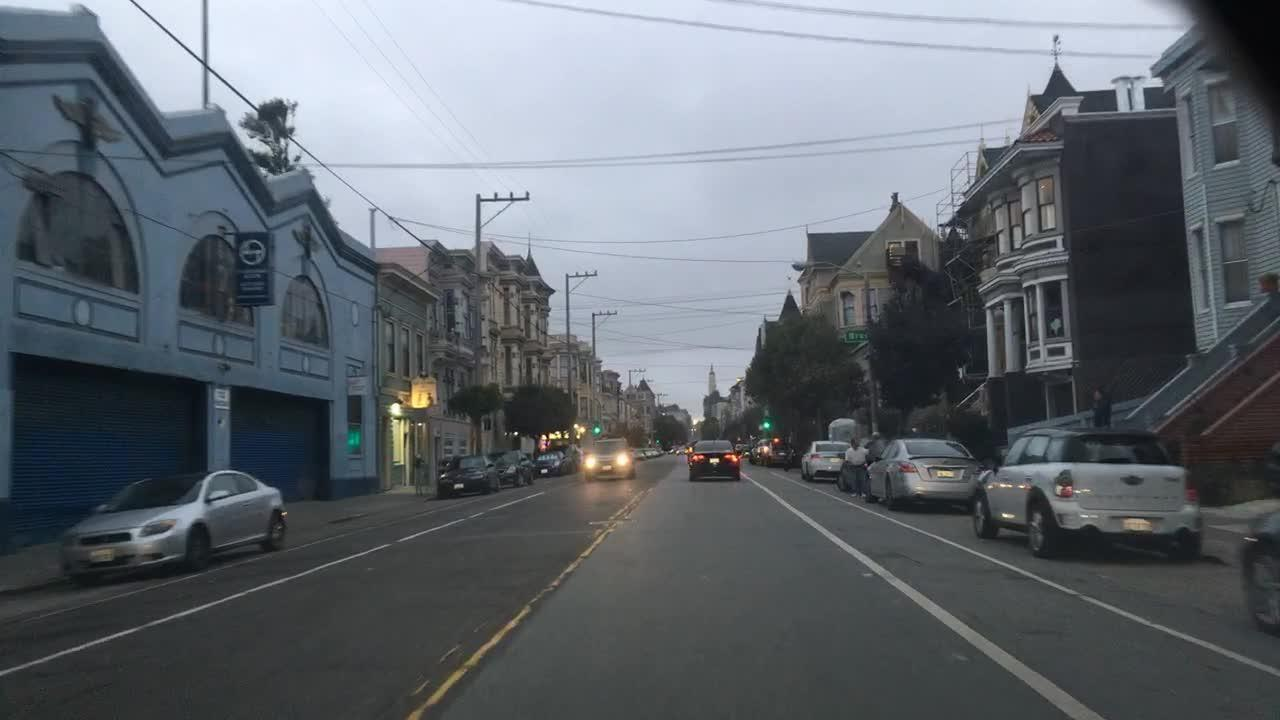mini: (1114, 471, 1149, 490)
